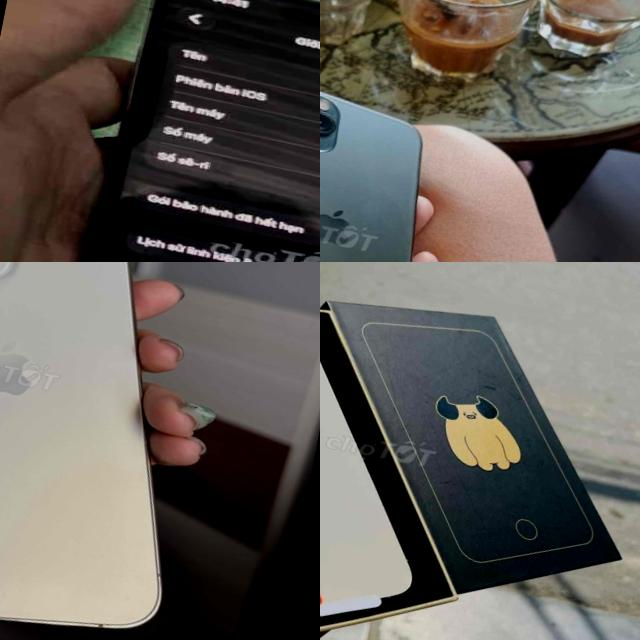gen_11: (320, 55, 462, 262)
gen_12_13: (0, 262, 239, 640), (320, 365, 410, 605)
gen_15: (45, 0, 320, 262)
